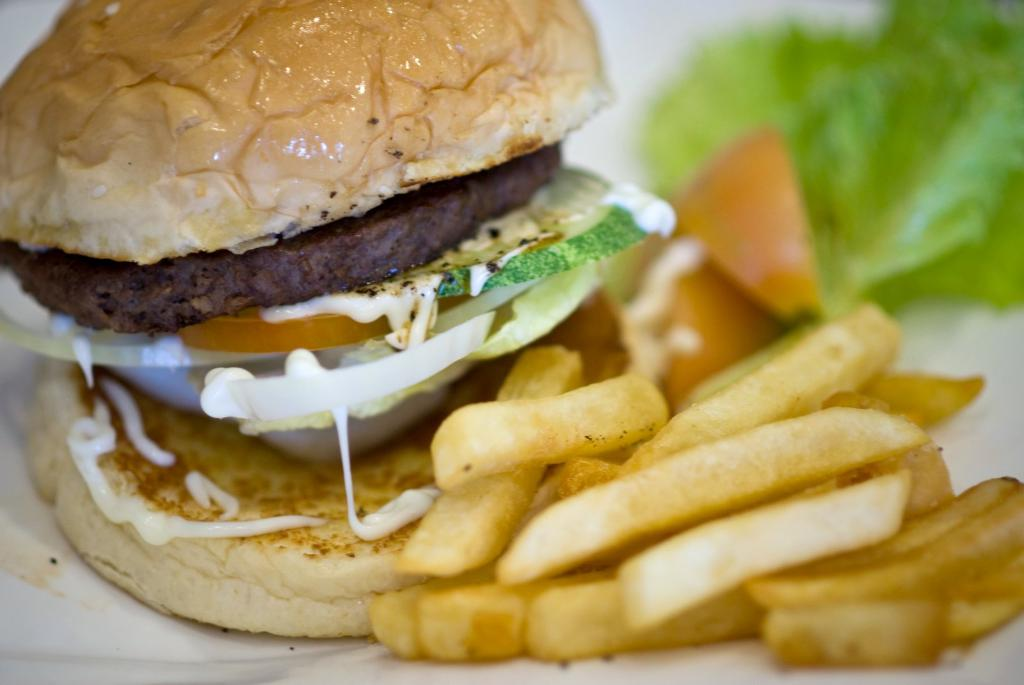French fries: (391, 356, 1024, 639)
